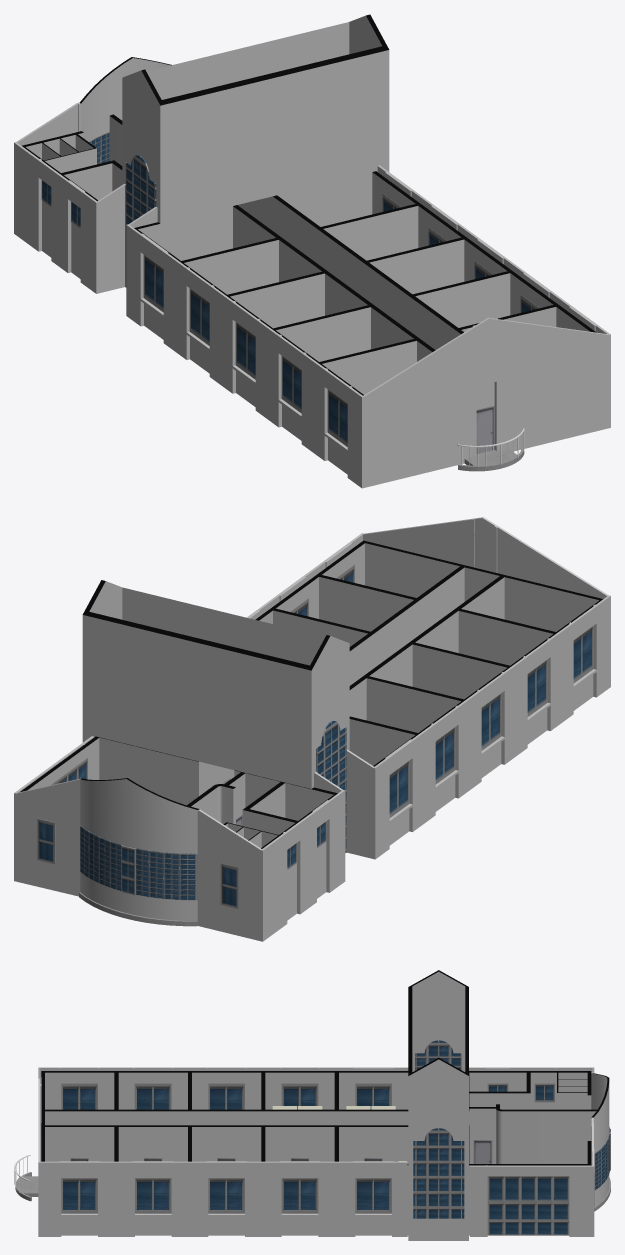
The model's file is soubrain_T1-10-2F.glb.
3 renders of one model, top to bottom at view 1: azimuth 30°, elevation 25°; view 2: azimuth 150°, elevation 25°; view 3: azimuth 270°, elevation 25°, orthographic. The views are drawn at different scales.
Visible parts, largest first — view 1: Box253, Rectangle1042, T1-10-2F, Line664; view 2: Box253, Rectangle1042, T1-10-2F, Line664; view 3: Box253, Rectangle1042, T1-10-2F, Line664, Box2089.
Part boxes in pixels (bbox=[...]): Box253: bbox=[21, 14, 596, 474]; Rectangle1042: bbox=[14, 102, 610, 488]; T1-10-2F: bbox=[41, 132, 566, 466]; Line664: bbox=[458, 448, 524, 471]; Box253: bbox=[20, 540, 602, 920]; Rectangle1042: bbox=[14, 517, 610, 941]; T1-10-2F: bbox=[37, 564, 593, 908]; Line664: bbox=[79, 892, 197, 926]; Box253: bbox=[41, 970, 609, 1240]; Rectangle1042: bbox=[38, 1067, 594, 1236]; T1-10-2F: bbox=[14, 1040, 610, 1235]; Line664: bbox=[15, 1172, 610, 1211]; Box2089: bbox=[272, 1106, 406, 1161].
Bounding box in the file's own units: 11.71 × 9.82 × 29.26.
Materials: 9 (6 with a texture image).
